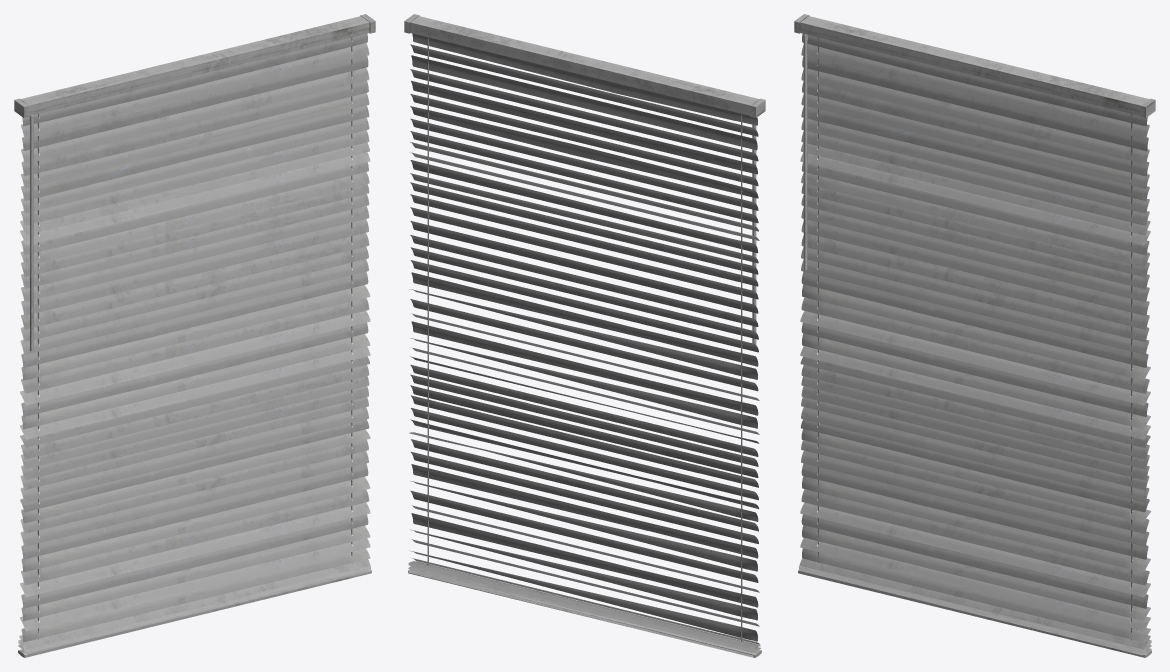
File: SM_Blinds_01d.fbx
The picture shows the model from 3 angles, left to right: view 1: azimuth 30°, elevation 25°; view 2: azimuth 150°, elevation 25°; view 3: azimuth 330°, elevation 25°; orthographic projection.
Parts seen in each view (by area): view 1: SM_Blinds_01d_LOD0; view 2: SM_Blinds_01d_LOD0; view 3: SM_Blinds_01d_LOD0.
Part boxes in pixels (x1,y1,x2,y2): SM_Blinds_01d_LOD0: (14, 14, 375, 657); SM_Blinds_01d_LOD0: (404, 14, 765, 657); SM_Blinds_01d_LOD0: (794, 14, 1155, 657).
Size of the model in its own units: 150 by 7.4 by 225.
